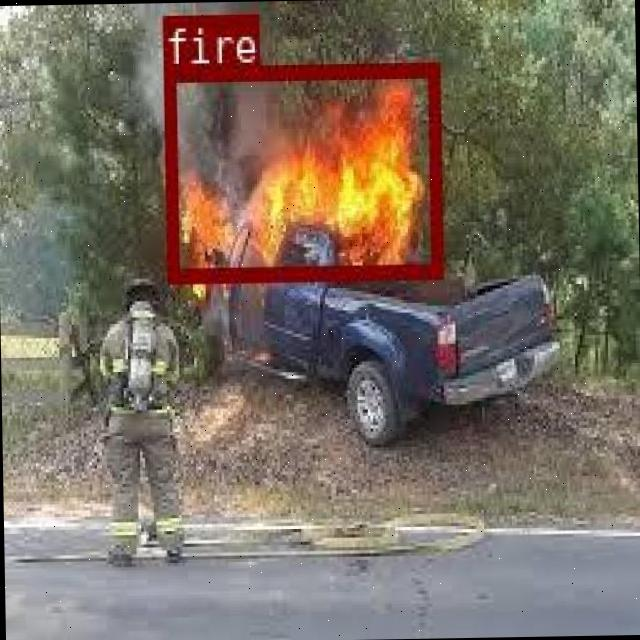fire: (162, 61, 440, 280)
